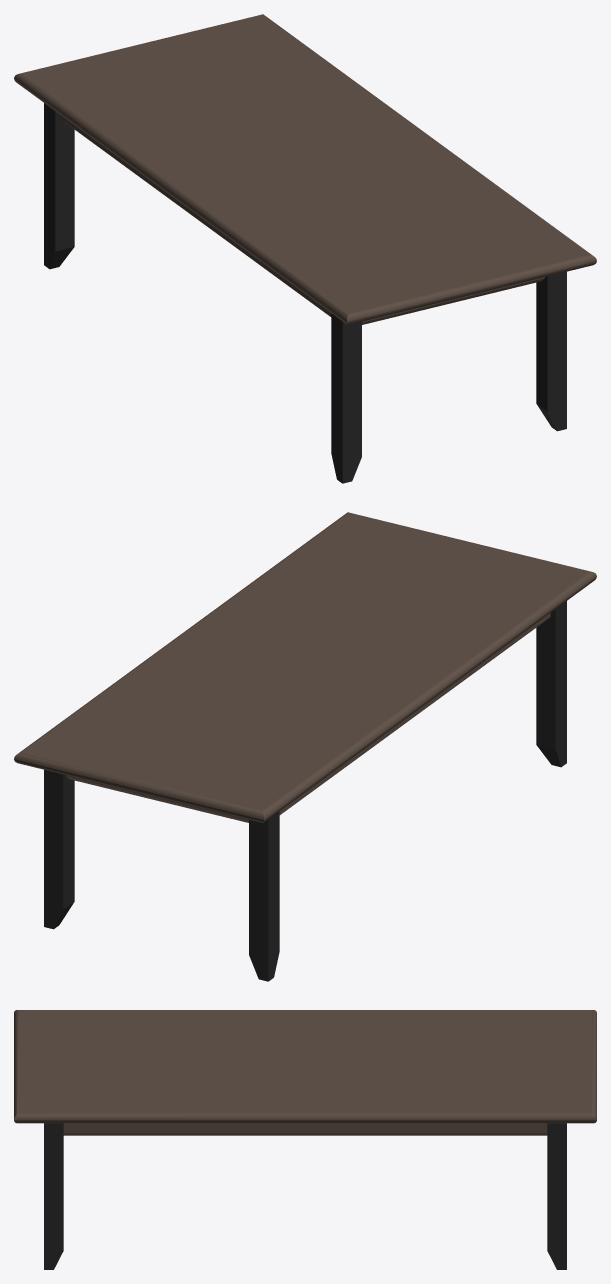
The model's file is GrandeTable_47.fbx.
3 views of the same model, one above another, from view 1: azimuth 30°, elevation 25°; view 2: azimuth 150°, elevation 25°; view 3: azimuth 270°, elevation 25° (orthographic). The views are drawn at different scales.
Parts seen in each view (by area): view 1: pCube89, pCube90; view 2: pCube89, pCube90; view 3: pCube89, pCube90.
Boxes of the visible parts, bbox=[...] form: pCube89: bbox=[14, 14, 596, 324]; pCube90: bbox=[44, 103, 566, 483]; pCube89: bbox=[14, 512, 596, 822]; pCube90: bbox=[44, 601, 566, 981]; pCube89: bbox=[14, 1010, 596, 1135]; pCube90: bbox=[44, 1123, 566, 1269].
Bounding box in the file's own units: 56.89 × 39.8 × 131.
